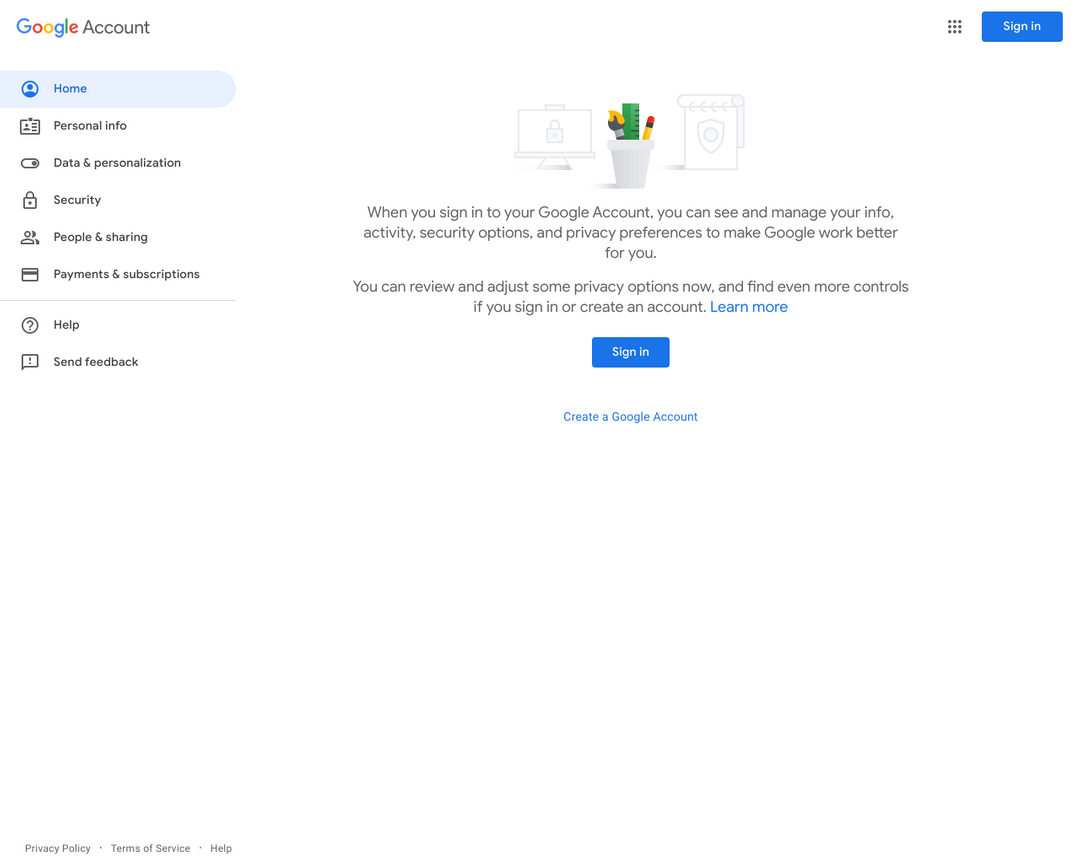Google: (506, 253, 572, 288)
